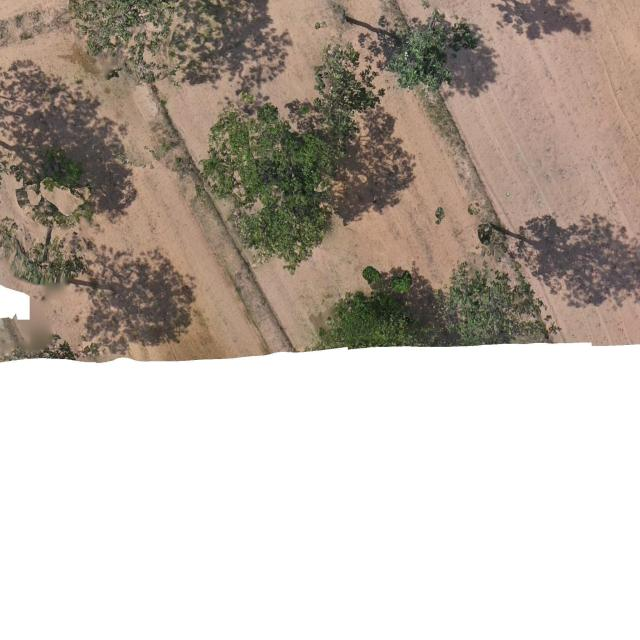Tree: (198, 85, 346, 280), (68, 0, 224, 88), (303, 263, 427, 354), (297, 42, 384, 156), (443, 260, 555, 348), (382, 7, 477, 95), (11, 143, 101, 233), (0, 216, 90, 291)
